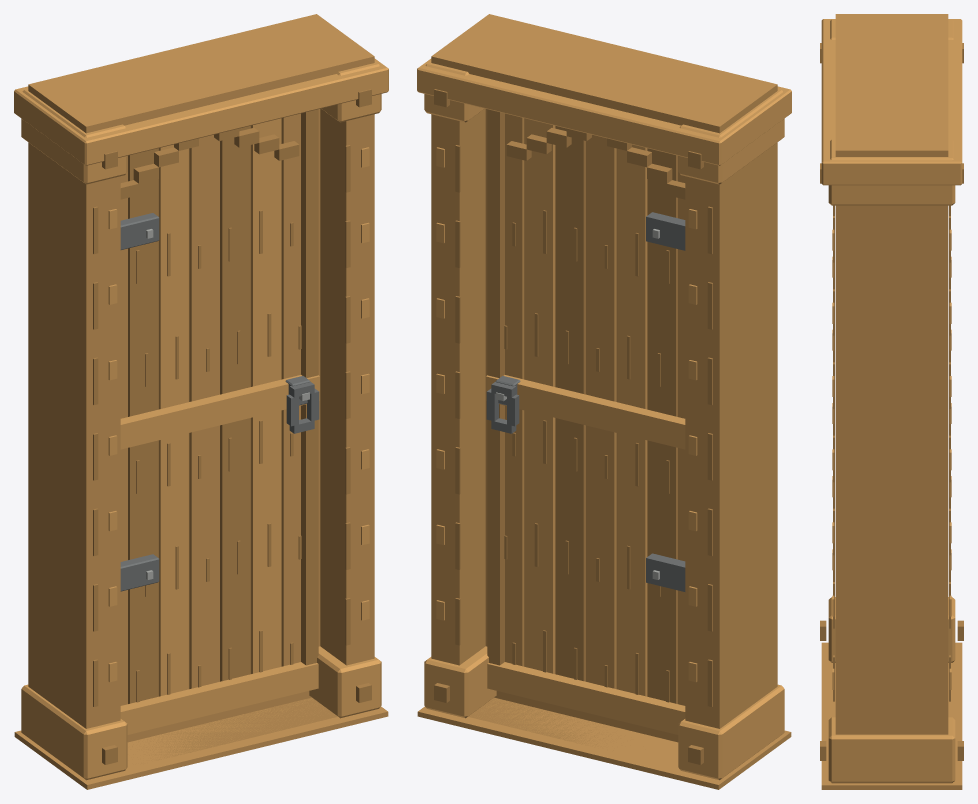
Rendered from oak_door.gltf.
The picture shows the model from 3 angles, left to right: view 1: azimuth 30°, elevation 25°; view 2: azimuth 150°, elevation 25°; view 3: azimuth 270°, elevation 25°; orthographic projection. The views are drawn at different scales.
Bounding box in the file's own units: 0.97 × 2 × 0.41.
